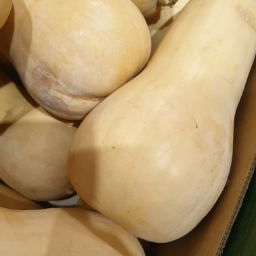Butternut Squash: (65, 7, 229, 246), (1, 81, 153, 256), (3, 1, 163, 137)
